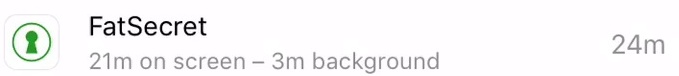name: (79, 7, 227, 43)
time: (82, 47, 136, 75), (267, 47, 310, 76)
